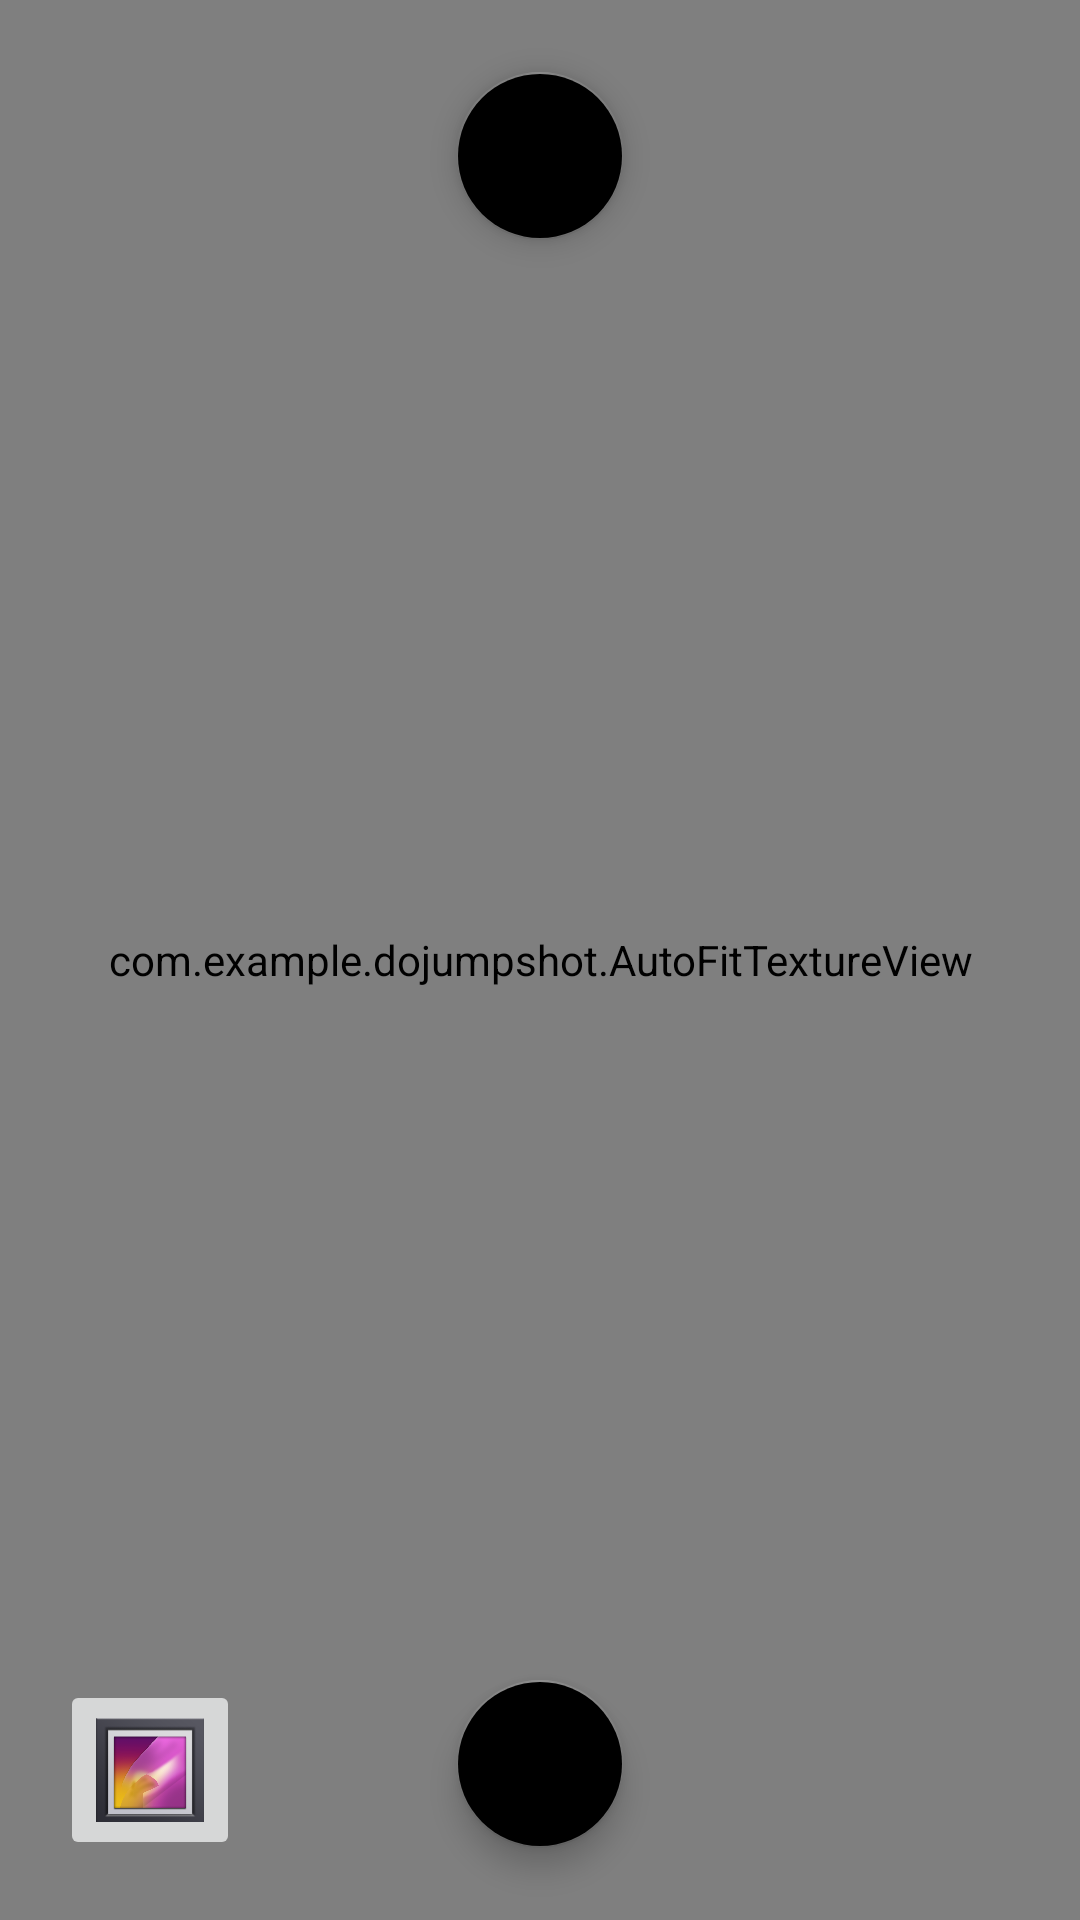

Screen size 1080px×1920px. Icon name, then its box in pixels as (x1, y1, x2, y2):
gallery: (72, 1698, 228, 1842)
